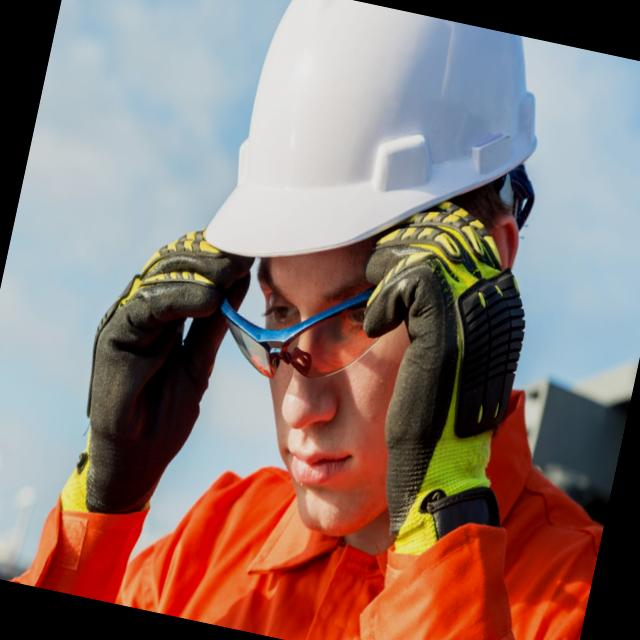goggles: (192, 268, 413, 406)
helmet: (156, 0, 589, 329)
vest: (153, 446, 601, 640)
